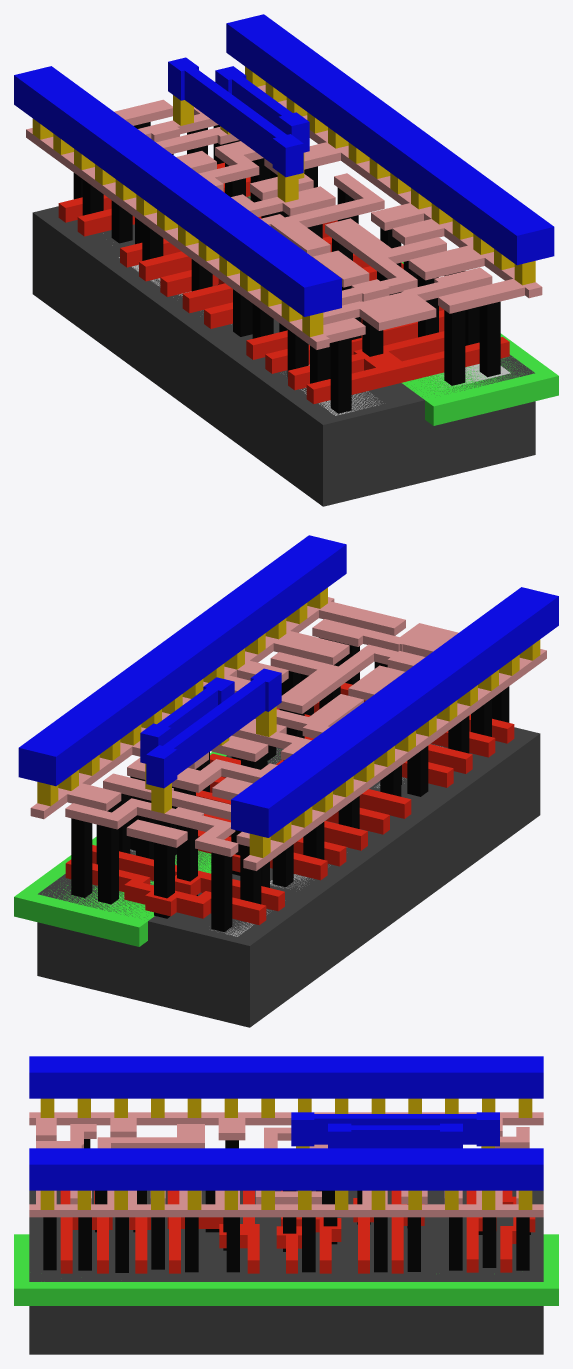
The model's file is sky130_fd_sc_hd__dlrtn_2.obj.
3 views of the same model, one above another, from view 1: azimuth 30°, elevation 25°; view 2: azimuth 150°, elevation 25°; view 3: azimuth 270°, elevation 25° (orthographic). The views are drawn at different scales.
Parts seen in each view (by area): view 1: metal1, subs, li, licon, poly, mcon, nwell; view 2: metal1, subs, li, licon, poly, mcon, nwell; view 3: metal1, subs, li, nwell, licon, poly, mcon.
Boxes of the visible parts, left/top/right/bottom form: metal1: left=14, top=14, right=554, bottom=316; subs: left=32, top=196, right=535, bottom=506; li: left=26, top=85, right=542, bottom=349; licon: left=73, top=122, right=500, bottom=413; poly: left=58, top=162, right=509, bottom=404; mcon: left=32, top=66, right=535, bottom=336; nwell: left=248, top=196, right=558, bottom=425; metal1: left=18, top=535, right=558, bottom=837; subs: left=37, top=727, right=540, bottom=1027; li: left=30, top=597, right=546, bottom=870; licon: left=71, top=637, right=509, bottom=931; poly: left=65, top=683, right=514, bottom=925; mcon: left=37, top=587, right=540, bottom=857; nwell: left=14, top=749, right=280, bottom=946; metal1: left=29, top=1056, right=543, bottom=1190; subs: left=29, top=1190, right=543, bottom=1354; li: left=29, top=1112, right=543, bottom=1217; nwell: left=14, top=1234, right=558, bottom=1305; licon: left=43, top=1139, right=530, bottom=1272; poly: left=60, top=1190, right=535, bottom=1273; mcon: left=40, top=1098, right=532, bottom=1209.
Size of the model in its own units: 3.2 by 2.74 by 6.82.
